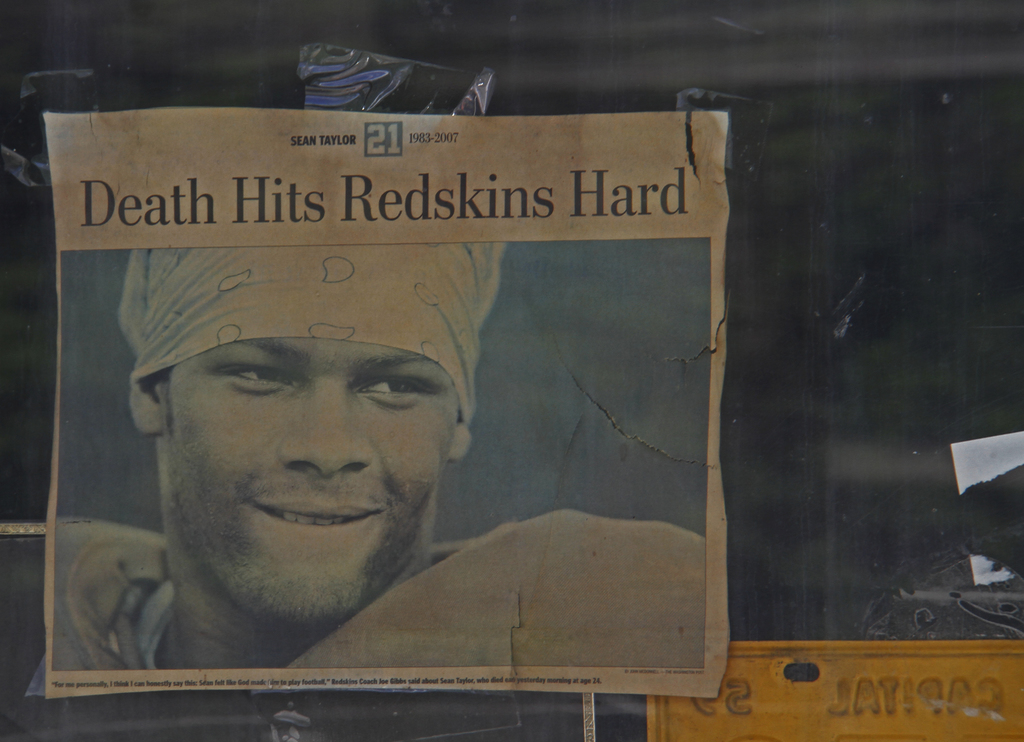Human-face: (161, 333, 457, 629)
